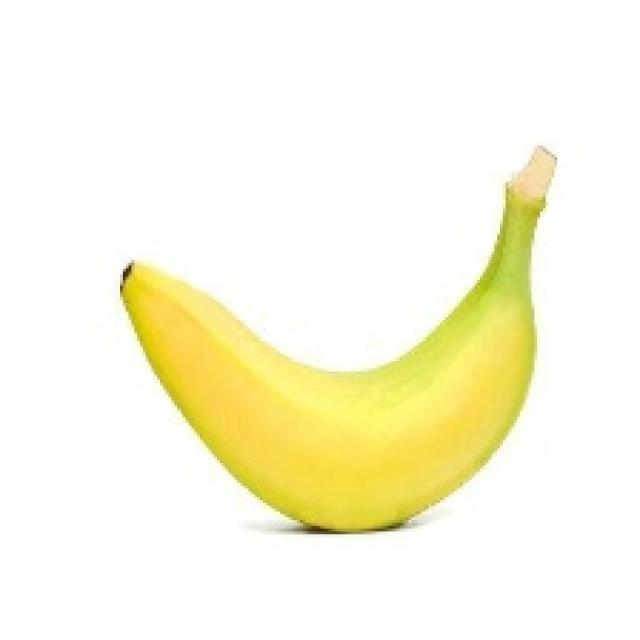Banana: (117, 143, 557, 531)
